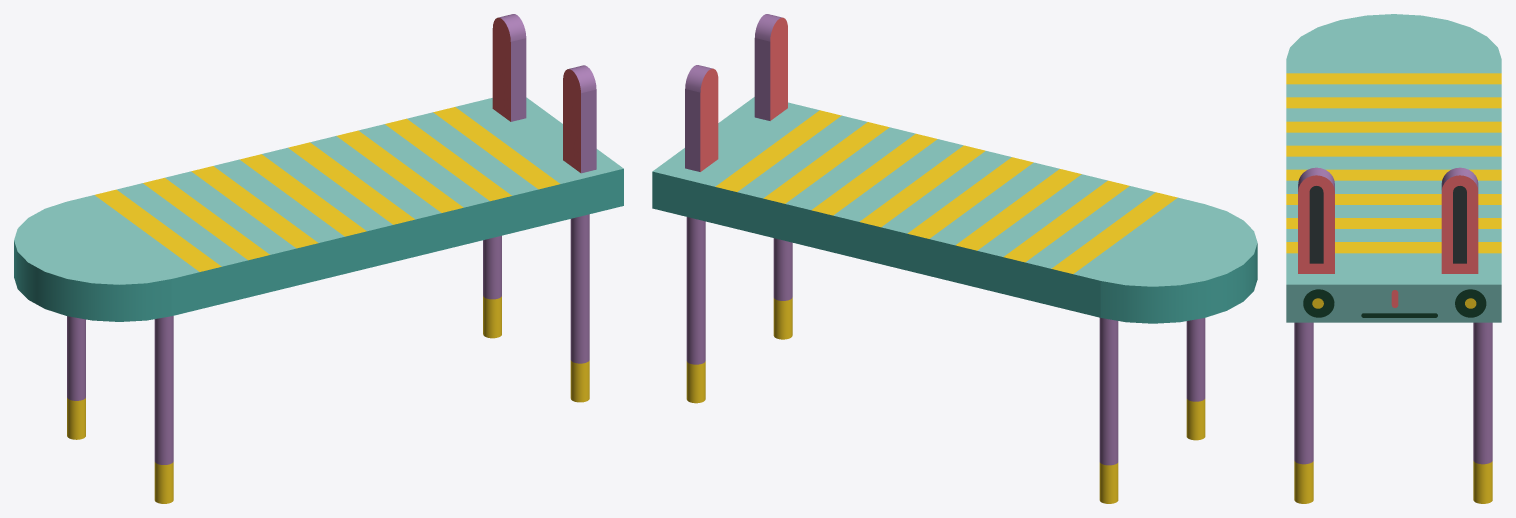
The model's file is objet1.dae.
The picture shows the model from 3 angles, left to right: view 1: azimuth 30°, elevation 25°; view 2: azimuth 150°, elevation 25°; view 3: azimuth 270°, elevation 25°; orthographic projection. The views are drawn at different scales.
Visible parts, largest first — view 1: instance_3 (×18), instance_2 (×2), instance_1 (×2), instance_7 (×2), instance_6 (×2), instance_4 (×2), instance_5 (×2); view 2: instance_3 (×18), instance_4 (×2), instance_5 (×2), instance_7 (×2), instance_6 (×2), instance_2 (×2), instance_1 (×2); view 3: instance_3 (×21), instance_6 (×3), instance_7 (×3), instance_1 (×2), instance_5 (×2).
Part boxes in pixels (bbox=[...]): instance_3 (×18): bbox=[14, 97, 623, 321]; instance_2 (×2): bbox=[154, 316, 173, 503]; instance_1 (×2): bbox=[570, 214, 589, 402]; instance_7 (×2): bbox=[492, 14, 526, 121]; instance_6 (×2): bbox=[563, 65, 596, 173]; instance_4 (×2): bbox=[67, 316, 85, 439]; instance_5 (×2): bbox=[483, 235, 501, 338]; instance_3 (×18): bbox=[652, 97, 1257, 323]; instance_4 (×2): bbox=[1099, 317, 1118, 503]; instance_5 (×2): bbox=[686, 217, 705, 403]; instance_7 (×2): bbox=[685, 65, 718, 171]; instance_6 (×2): bbox=[754, 14, 787, 120]; instance_2 (×2): bbox=[1186, 318, 1205, 440]; instance_1 (×2): bbox=[773, 238, 792, 339]; instance_3 (×21): bbox=[1286, 14, 1501, 322]; instance_6 (×3): bbox=[1298, 167, 1334, 273]; instance_7 (×3): bbox=[1441, 167, 1478, 273]; instance_1 (×2): bbox=[1294, 322, 1313, 503]; instance_5 (×2): bbox=[1473, 322, 1492, 503].
Size of the model in its own units: 219 by 73.81 by 125.
